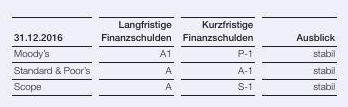table: (0, 0, 348, 107)
